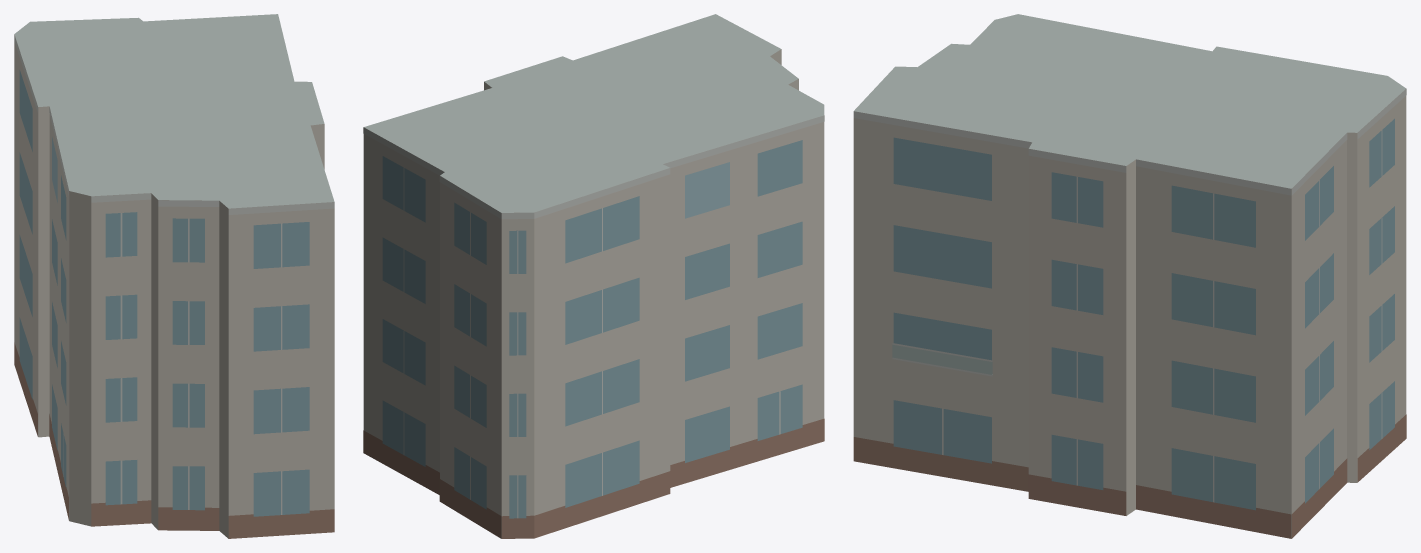
Rendered from survey-upis-32638392.glb.
3 views of the same model, side by side, from view 1: azimuth 30°, elevation 25°; view 2: azimuth 150°, elevation 25°; view 3: azimuth 270°, elevation 25° (orthographic). The views are drawn at different scales.
Visible parts, largest first — view 1: survey-upis-32638392.tmp; view 2: survey-upis-32638392.tmp; view 3: survey-upis-32638392.tmp.
Boxes of the visible parts, box(x1,y1,x2,y2) form: survey-upis-32638392.tmp: box(14, 14, 334, 538); survey-upis-32638392.tmp: box(363, 14, 824, 538); survey-upis-32638392.tmp: box(853, 14, 1406, 538).
Size of the model in its own units: 13.29 by 12.4 by 17.76.
